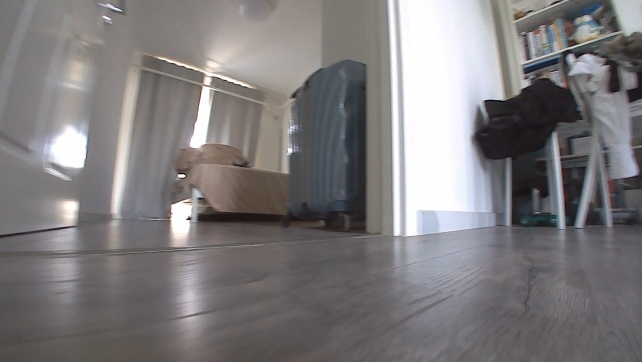bed1: (173, 156, 289, 224)
door_anno: (0, 0, 130, 242)
